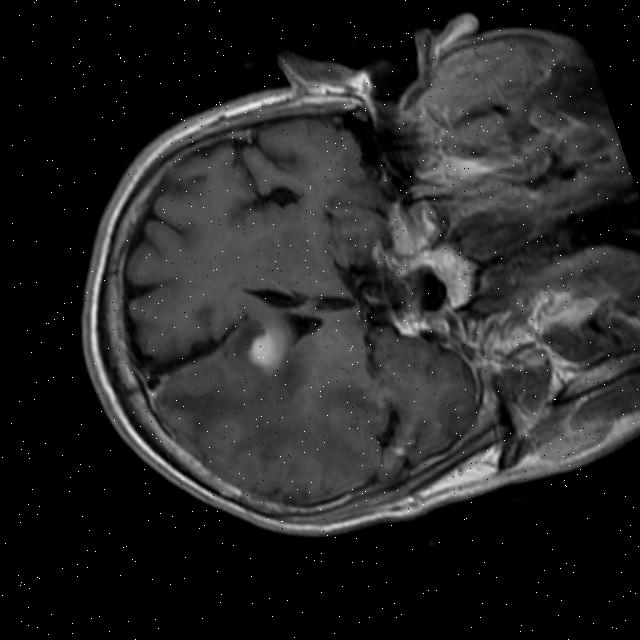Glioma: (239, 324, 291, 376)
Pituitary: (422, 234, 491, 314)
